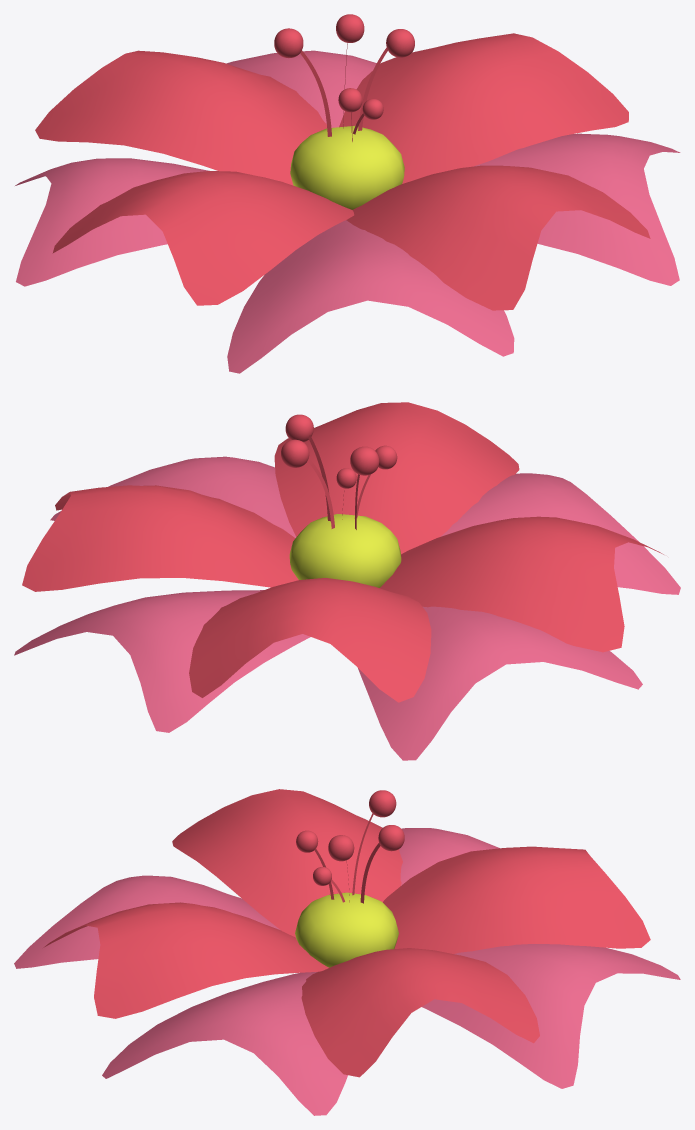
Rendered from flower.fbx.
The picture shows the model from 3 angles, top to bottom: view 1: azimuth 30°, elevation 25°; view 2: azimuth 150°, elevation 25°; view 3: azimuth 270°, elevation 25°; orthographic projection. The views are drawn at different scales.
Parts seen in each view (by area): view 1: Flower; view 2: Flower; view 3: Flower.
Part boxes in pixels (x1,y1,x2,y2): Flower: (15, 14, 680, 373); Flower: (14, 402, 680, 760); Flower: (14, 789, 680, 1115).
Bounding box in the file's own units: 3.49 × 3.49 × 1.05.
